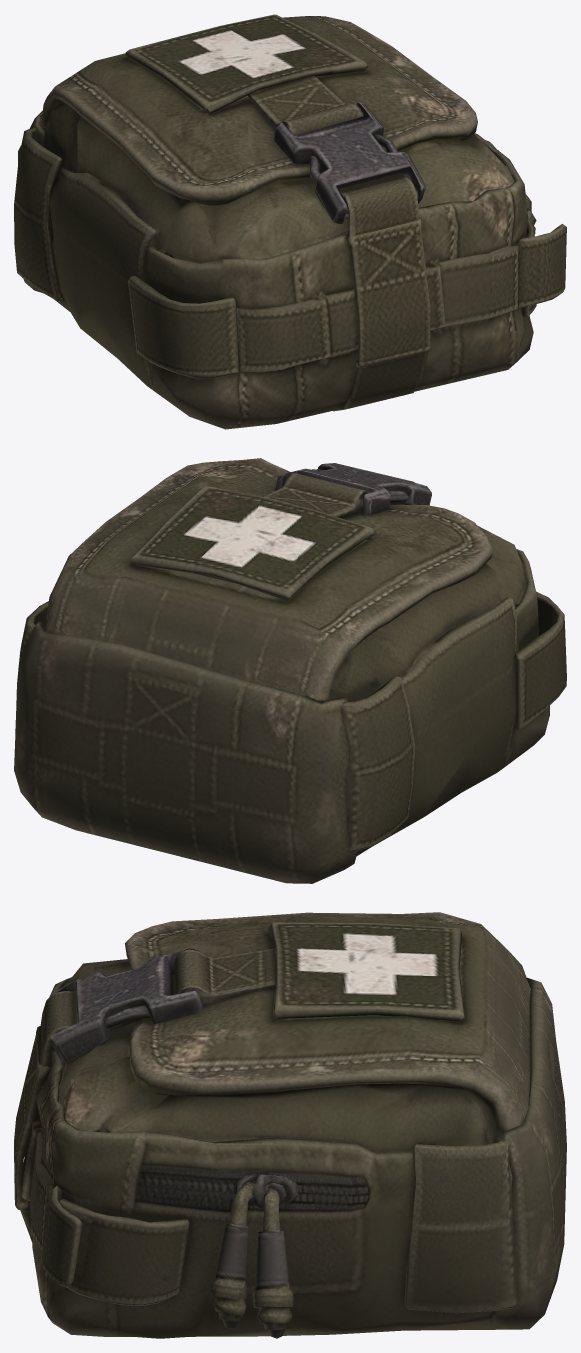
The model's file is medkit.glb.
3 renders of one model, top to bottom at view 1: azimuth 30°, elevation 25°; view 2: azimuth 150°, elevation 25°; view 3: azimuth 270°, elevation 25°, orthographic. The views are drawn at different scales.
Bounding box in the file's own units: 0.9526 × 0.5459 × 0.8936.
1 material, 1 textured.
